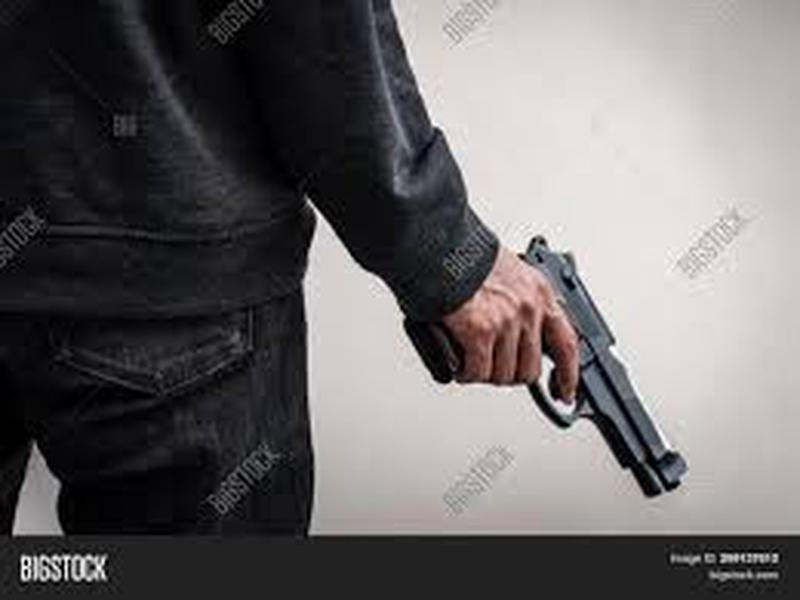gun: (401, 236, 703, 500)
